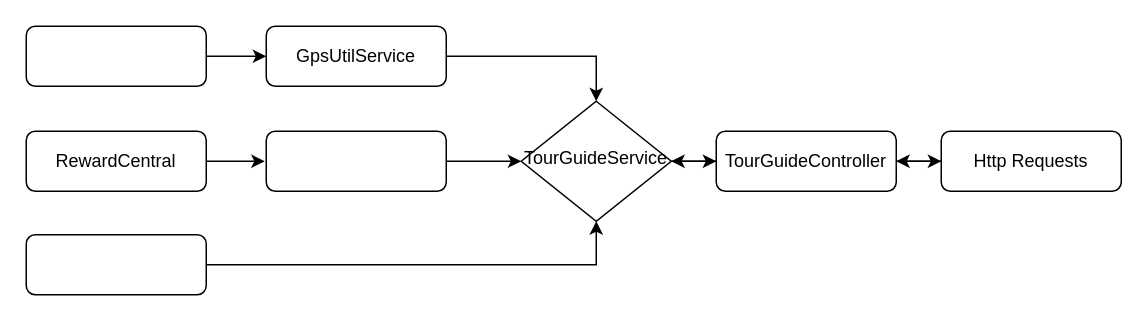
This 1148x321 diagram has some shape labels left out. Each missing label, with the centre of its shape:
"GpsUtil" goes at (115,55).
"RewardService" goes at (355,160).
"TripPricer" goes at (115,264).
